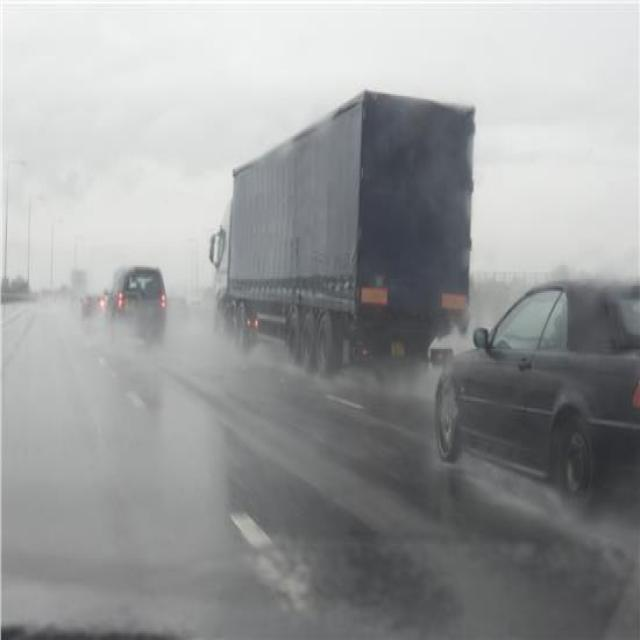car: (432, 279, 639, 501), (102, 263, 166, 342)
